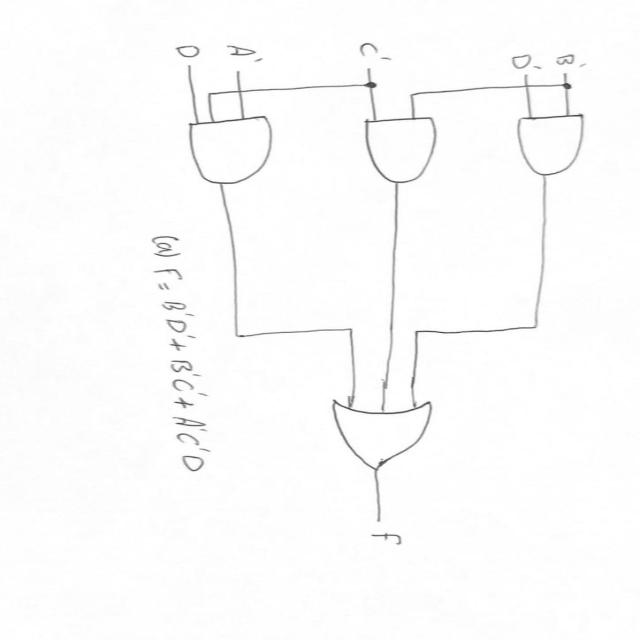AND: (172, 109, 297, 190), (345, 110, 456, 188), (500, 107, 606, 181)
OR: (316, 390, 449, 478)
